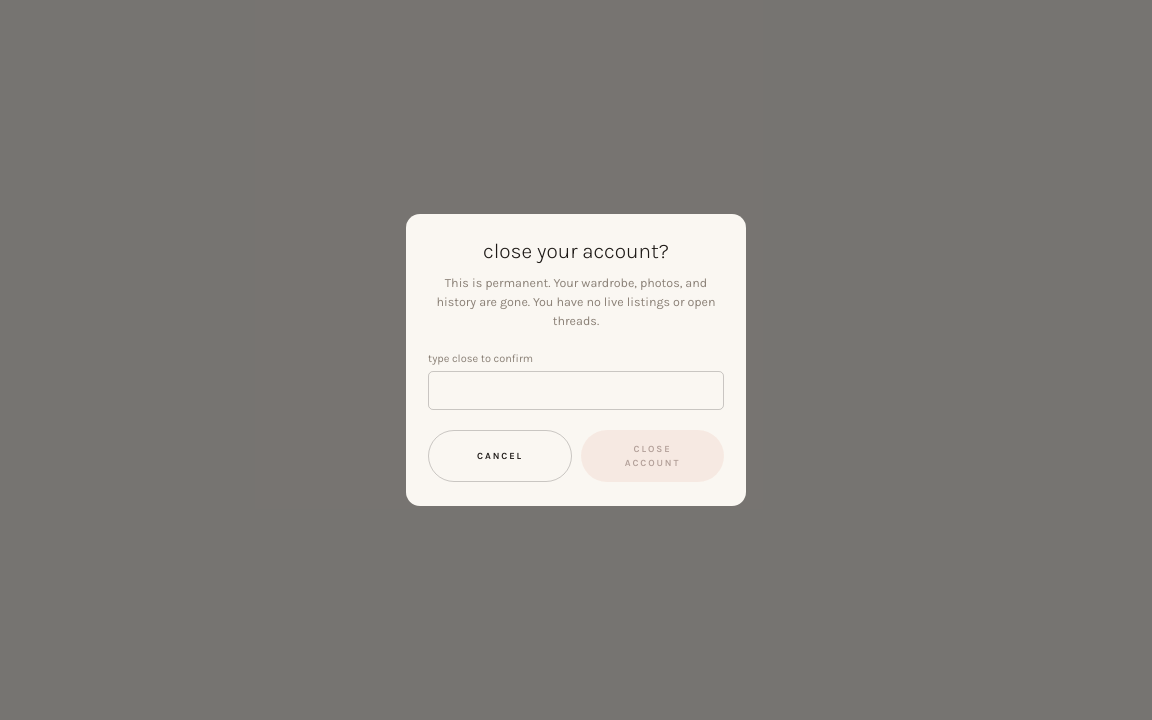
Test: CloseAccountDialog › keeps the confirm button disabled until the user types close
The width and height of the screenshot is (1152, 720).
Expected: the button "close account" is disabled, [581,430,724,482]
In the field labelled "type close to confirm": (576, 390) [428,371,724,410], type "close"
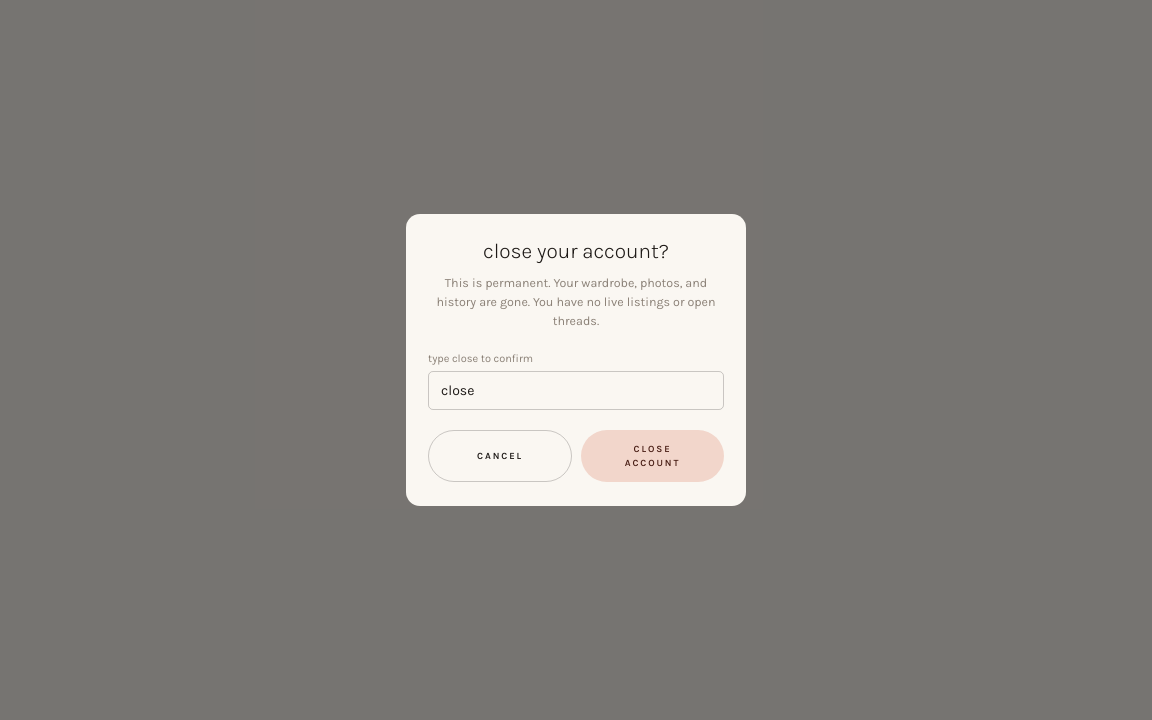
Now the button "close account" is enabled, box [581,430,724,482]
